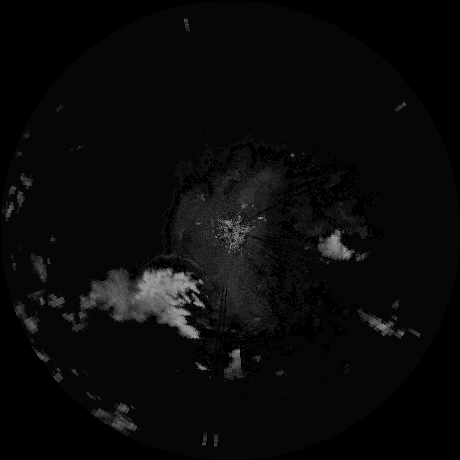frontgust: (148, 251, 205, 275)
